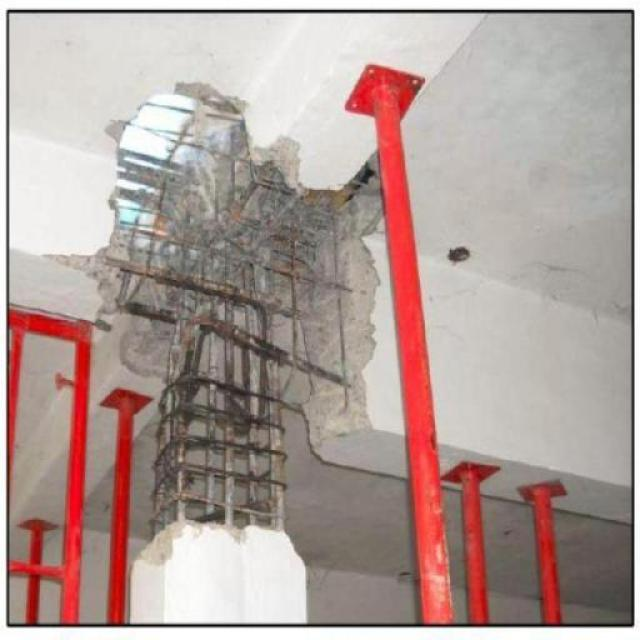D0w0: (45, 80, 385, 569)
